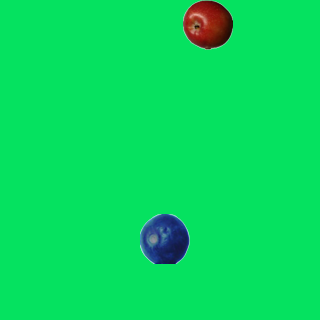Apple Braeburn: (182, 0, 232, 49)
Huckleberry: (139, 213, 189, 263)
